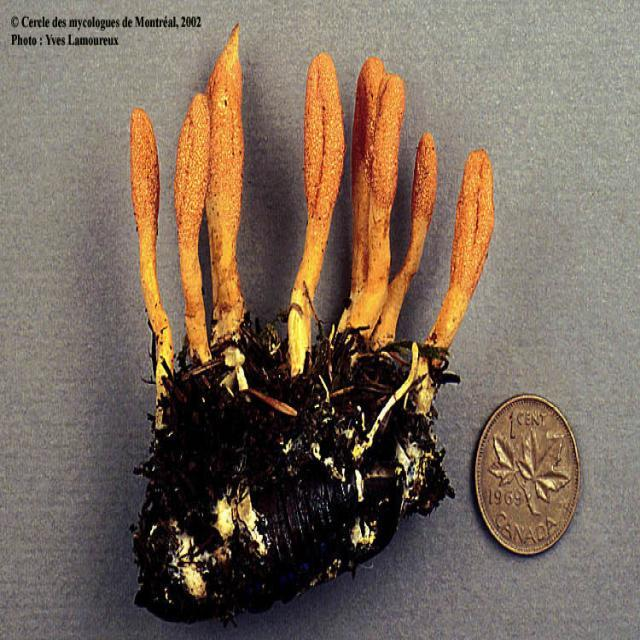Cordyceps militaris: (288, 50, 342, 376), (126, 103, 174, 441), (201, 22, 245, 366), (353, 55, 402, 354), (381, 133, 438, 355), (439, 152, 495, 376), (177, 91, 210, 365)
